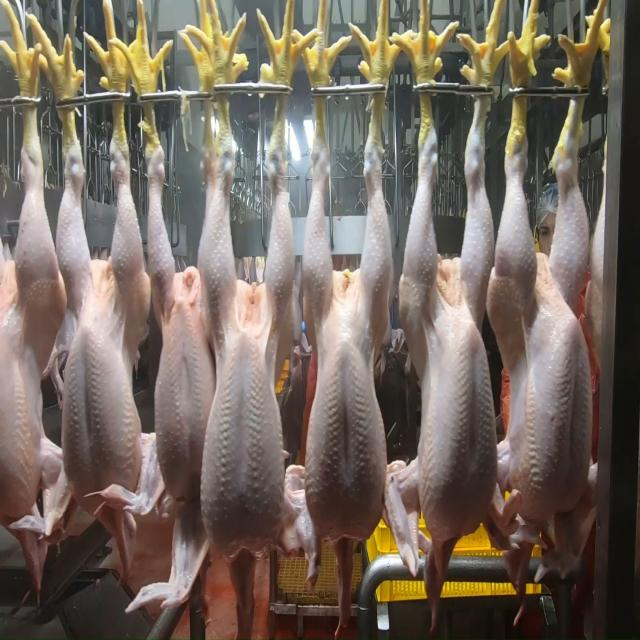chicken: (194, 114, 297, 566), (400, 110, 500, 554), (298, 85, 392, 547), (491, 120, 590, 550), (51, 111, 152, 518), (137, 125, 217, 511), (0, 102, 55, 518)
